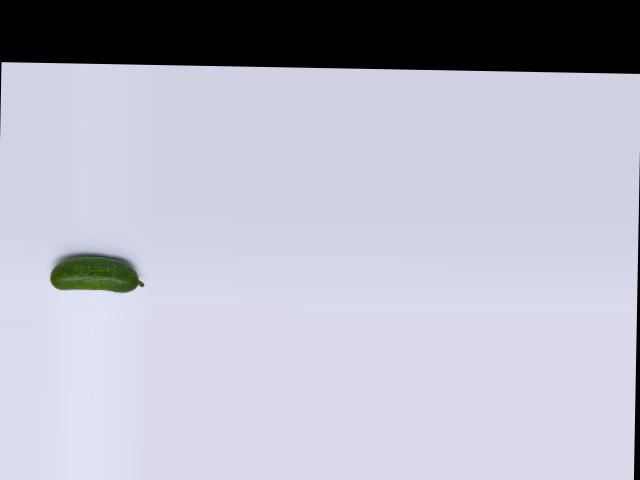cucumber: (49, 254, 144, 292)
